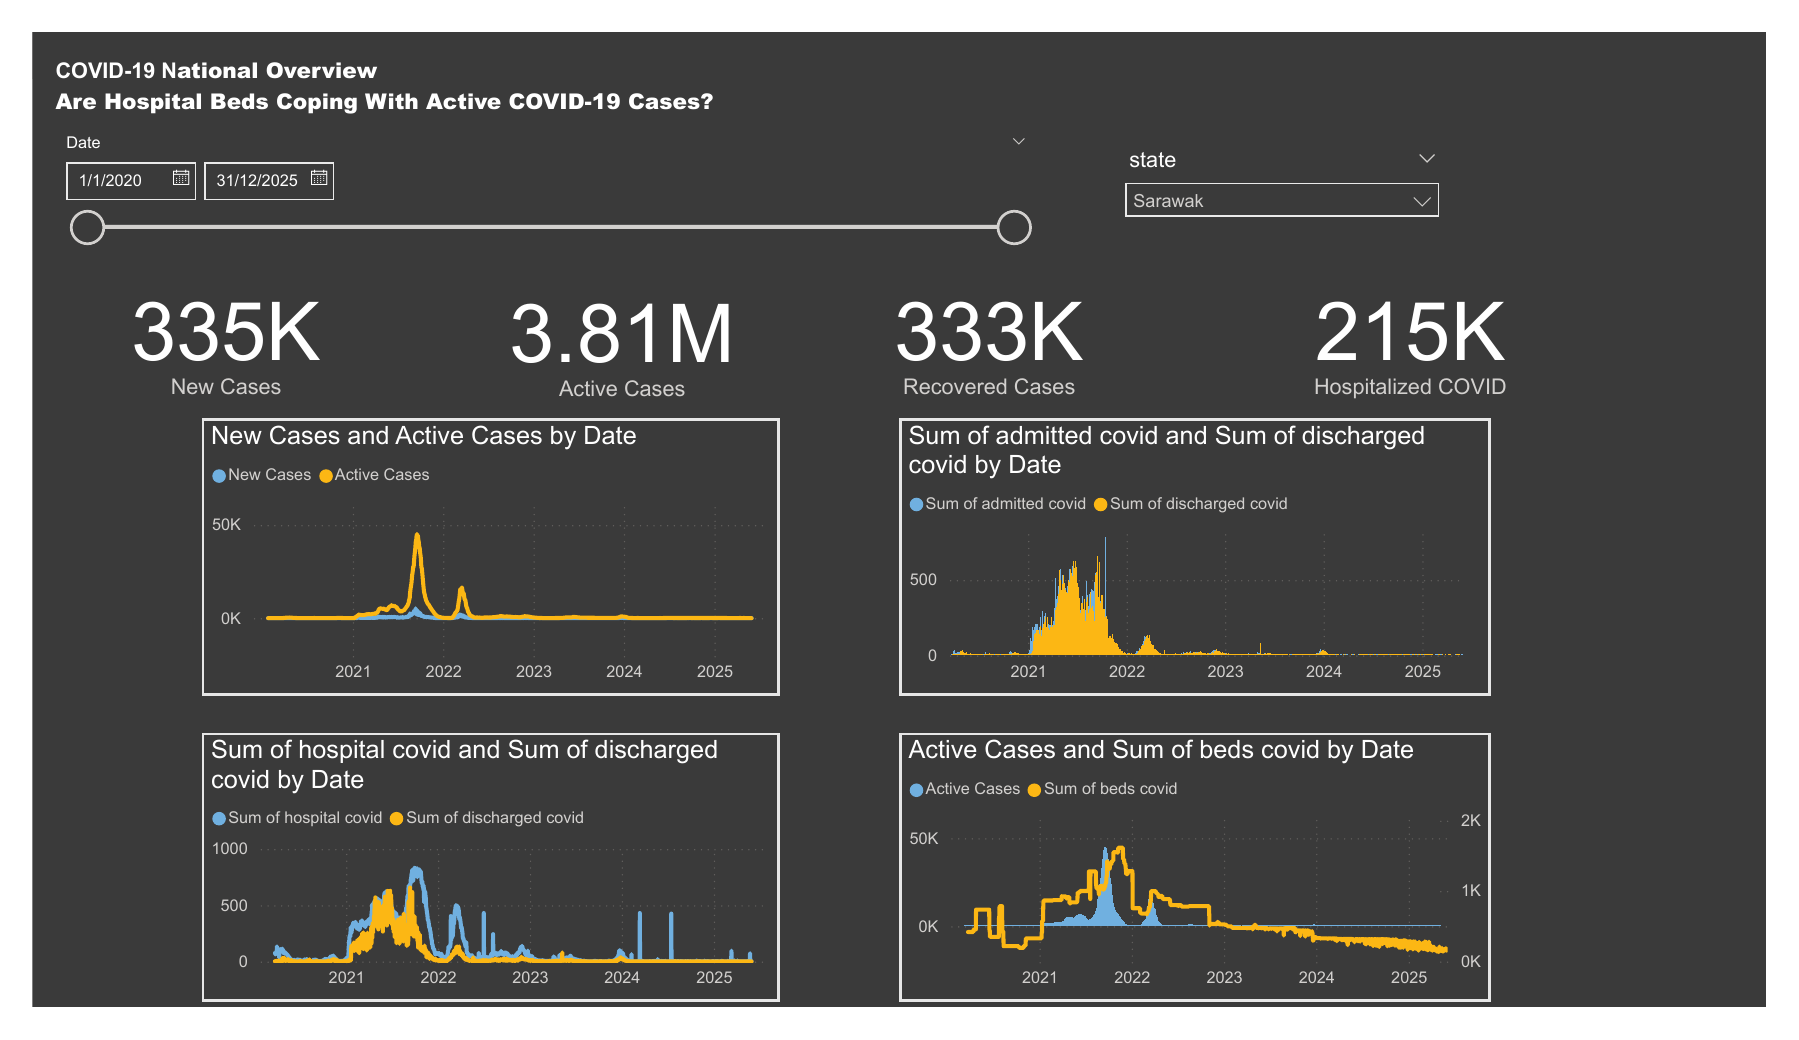

This screenshot's page, from the dashboard's own definition file:
{"tool":"powerbi","page":{"name":"Page 1","canvas":[1280,720],"ordinal":0},"visuals":[{"type":"slicer","fields":{"Values":["Date.Date"]},"box":[11.7,70,734.3,96.3],"z":0},{"type":"slicer","fields":{"Values":["State.state"]},"box":[796.6,80.7,251.9,75.9],"z":1000},{"type":"card","fields":{"Values":["Date.Active Cases"]},"box":[316.5,169.6,269.5,112.1],"z":2000},{"type":"card","fields":{"Values":["Date.Total Cases"]},"box":[23.3,170.2,239.3,108.9],"z":3000},{"type":"card","fields":{"Values":["Date.Recovered Cases"]},"box":[586.5,164.9,239.2,119.6],"z":4000},{"type":"card","fields":{"Values":["Date.Hospitalized COVID"]},"box":[898.2,149.9,239.2,149.5],"z":5000},{"type":"lineChart","fields":{"Category":["Date.Date"],"Y":["Date.New Cases","Date.Active Cases"]},"box":[125.5,285,427,205.2],"z":6000},{"type":"clusteredColumnChart","fields":{"Category":["Date.Date"],"Y":["Sum(hospital beds.admitted_covid)","Sum(hospital beds.discharged_covid)"]},"box":[640,285,436.7,205.2],"z":7000},{"type":"lineChart","fields":{"Category":["Date.Date"],"Y":["Sum(hospital beds.hosp_covid)","Sum(hospital beds.discharged_covid)"]},"box":[125.5,517.4,427,198.4],"z":8000},{"type":"lineStackedColumnComboChart","fields":{"Category":["Date.Date"],"Y":["Date.Active Cases"],"Y2":["Sum(hospital beds.beds_covid)"]},"box":[640,517.4,436.7,198.4],"z":9000},{"type":"textbox","box":[11.7,10.7,926,59.3],"z":10000}]}

Visuals, with their boxes in screenshot pixels (x1, y1, x2, y2), scaled from the page's 1280x720 canvas onto the 1799x1040 screenshot:
slicer - Date.Date: rect(16, 101, 1048, 240)
slicer - State.state: rect(1120, 117, 1474, 226)
card - Date.Active Cases: rect(445, 245, 824, 407)
card - Date.Total Cases: rect(33, 246, 369, 403)
card - Date.Recovered Cases: rect(824, 238, 1160, 411)
card - Date.Hospitalized COVID: rect(1262, 217, 1599, 432)
lineChart - Date.Date x Date.New Cases: rect(176, 412, 777, 708)
clusteredColumnChart - Date.Date x Sum(hospital beds.admitted_covid): rect(900, 412, 1513, 708)
lineChart - Date.Date x Sum(hospital beds.hosp_covid): rect(176, 747, 777, 1034)
lineStackedColumnComboChart - Date.Date x Date.Active Cases: rect(900, 747, 1513, 1034)
textbox: rect(16, 15, 1318, 101)
